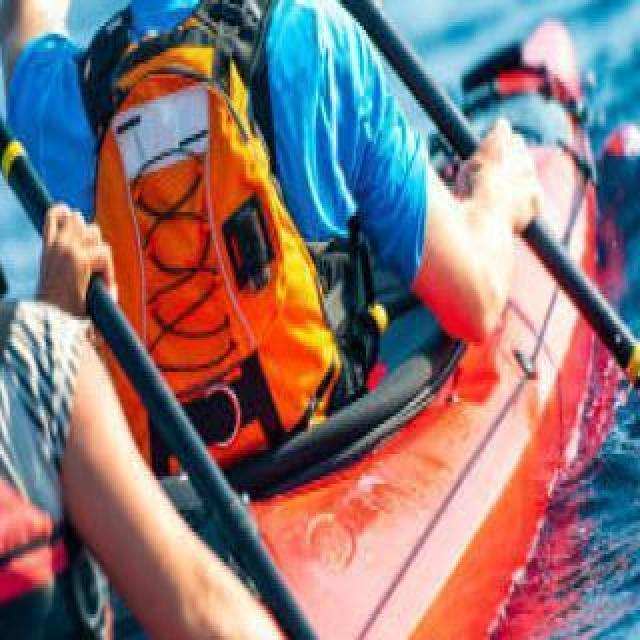kayak: (251, 242, 617, 640), (533, 115, 621, 309)
